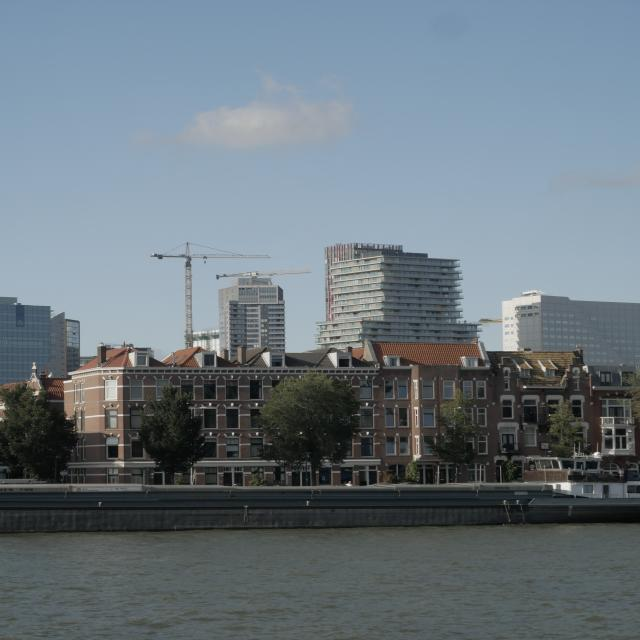building: (63, 340, 640, 485), (318, 241, 481, 341), (497, 285, 640, 363), (0, 292, 80, 376), (210, 272, 290, 351)
